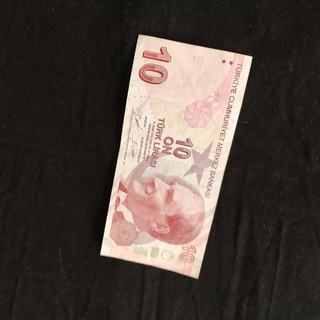10TLFront: (99, 33, 254, 280)
